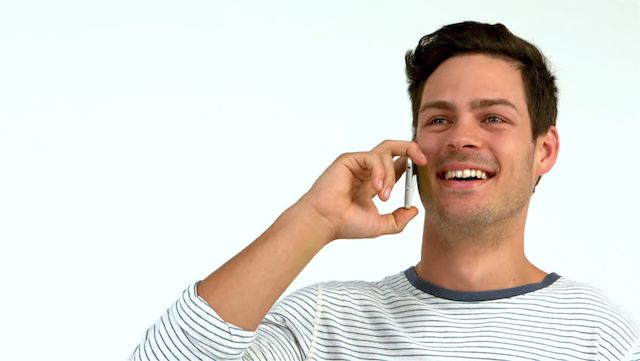phone: (393, 137, 427, 233)
talk: (320, 95, 535, 251)
